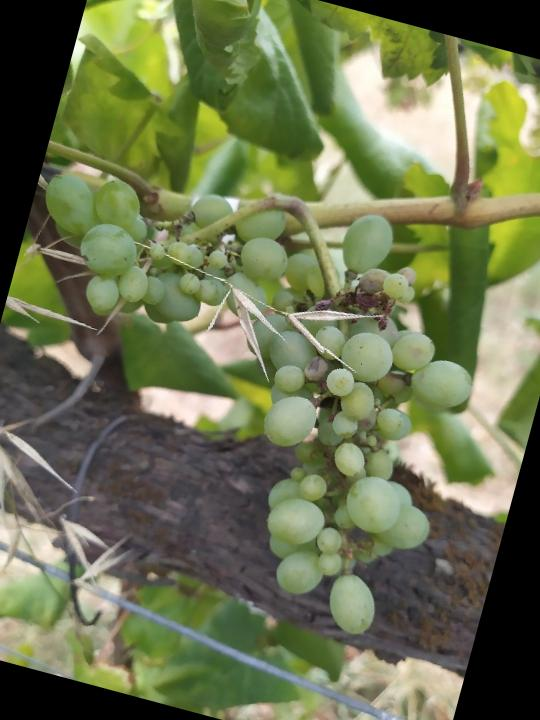grape: (0, 131, 509, 655)
